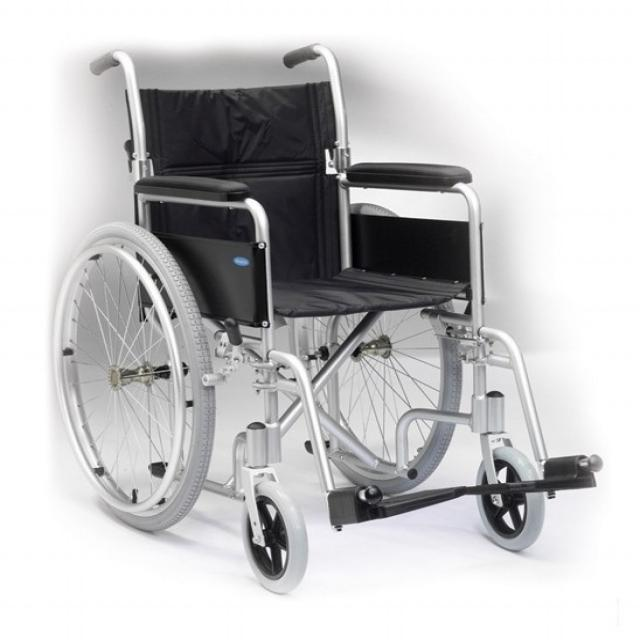wheelchair: (42, 30, 618, 608)
